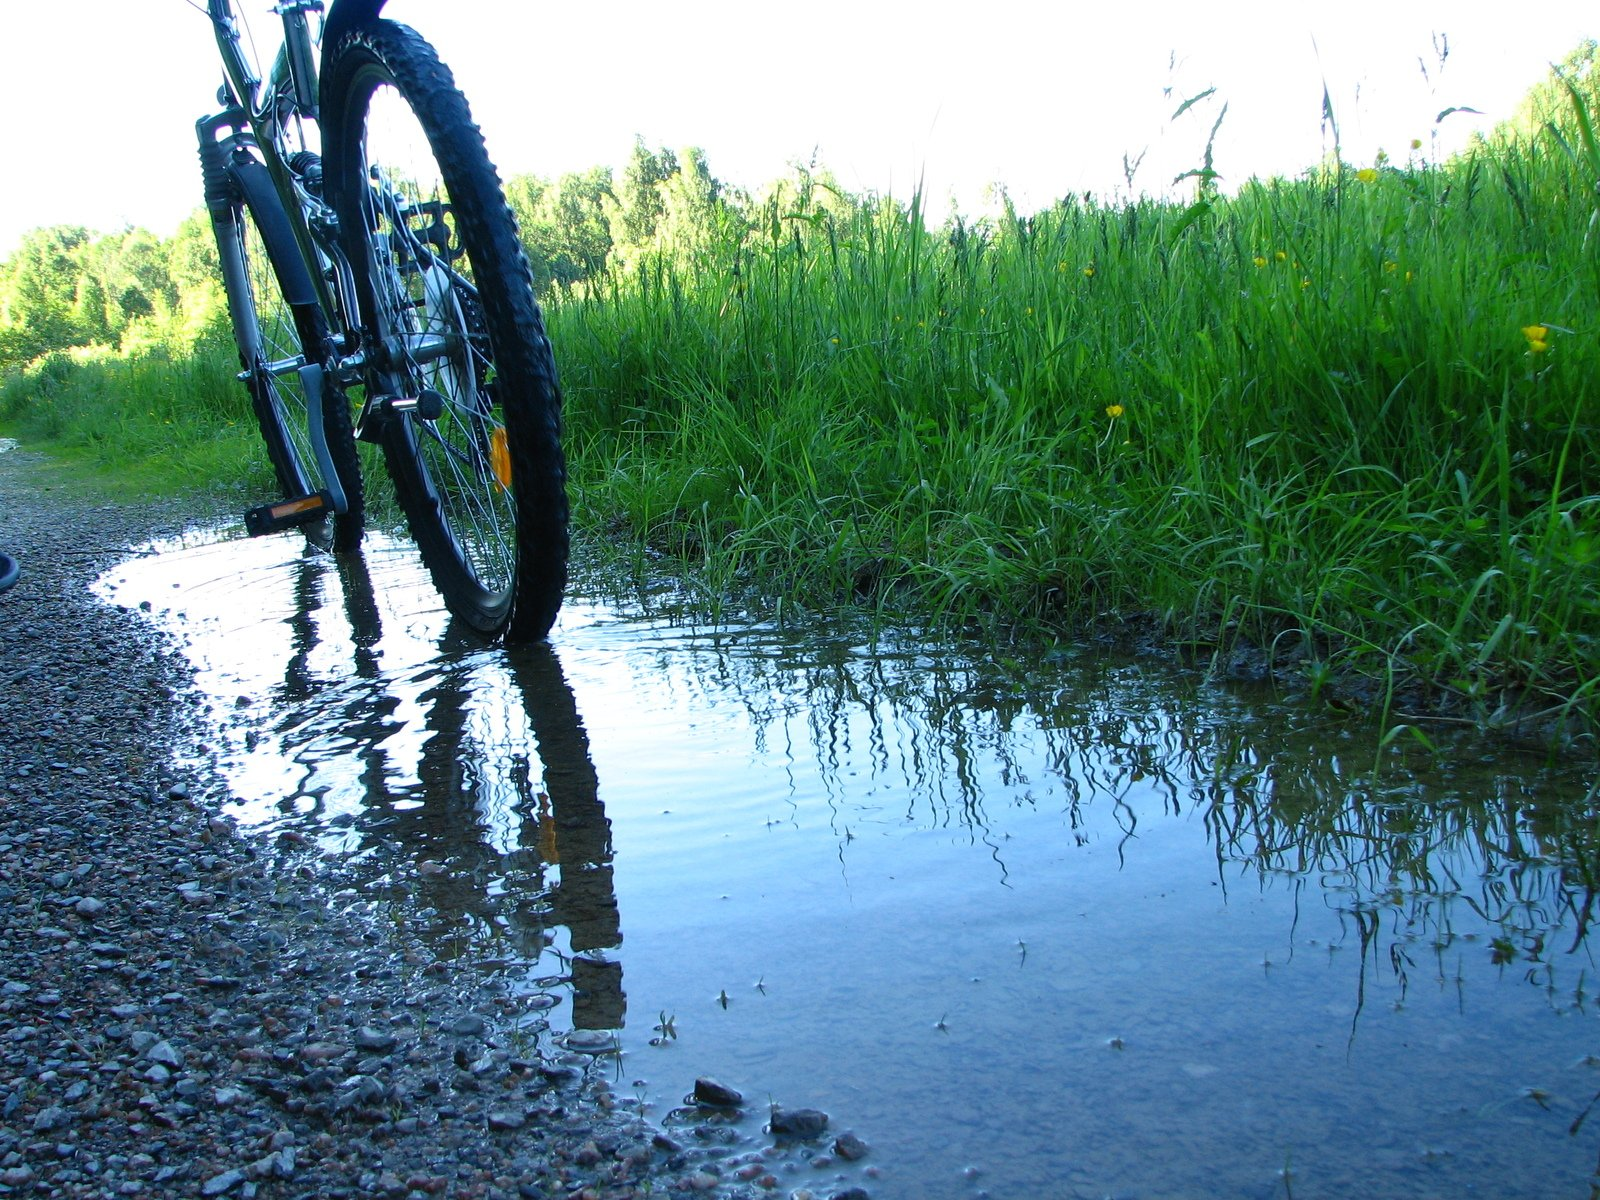Bicycle: (1, 1, 1597, 1197)
